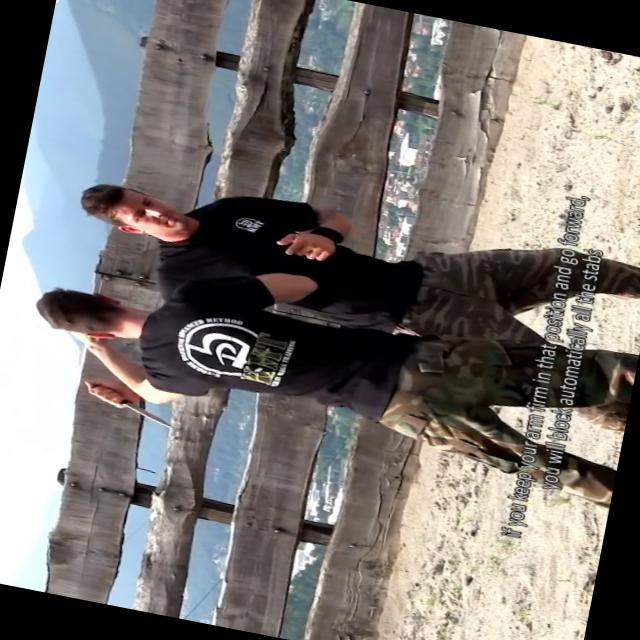knife: (71, 375, 189, 440)
